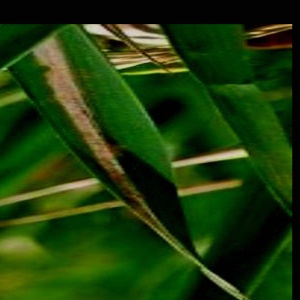Leaf_Blast: (20, 40, 124, 179)
